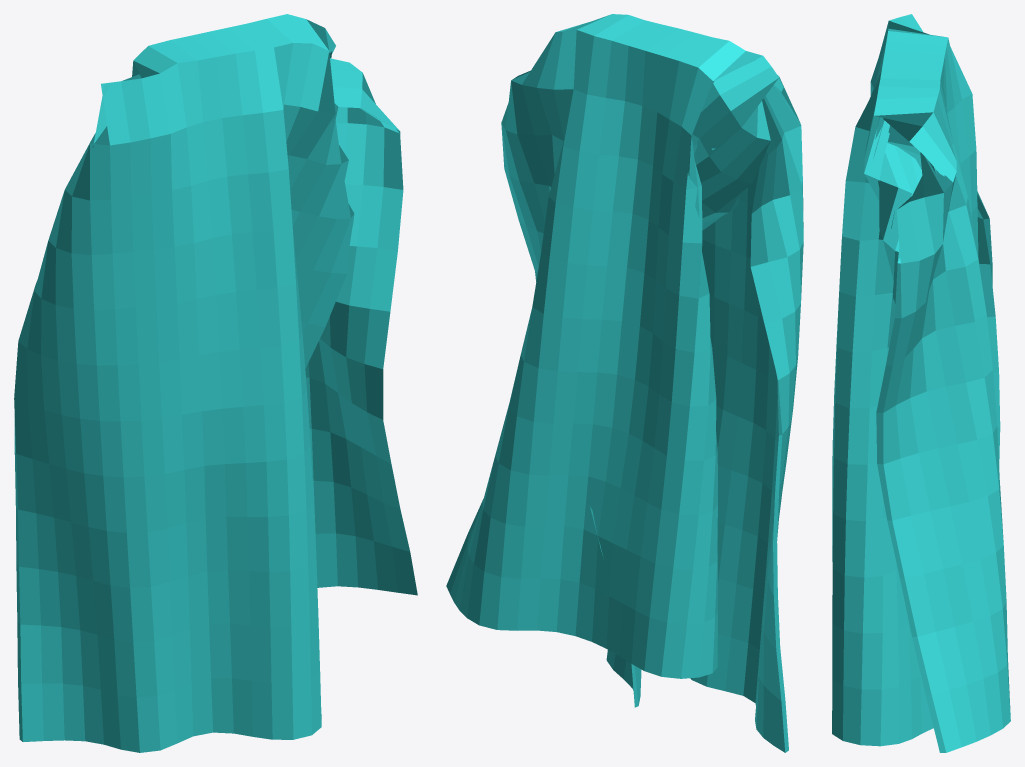
Rendered from towel_grab.fbx.
3 views of the same model, side by side, from view 1: azimuth 30°, elevation 25°; view 2: azimuth 150°, elevation 25°; view 3: azimuth 270°, elevation 25° (orthographic). The views are drawn at different scales.
Visible parts, largest first — view 1: Plane; view 2: Plane; view 3: Plane.
Boxes of the visible parts, bbox=[...] form: Plane: bbox=[14, 14, 417, 752]; Plane: bbox=[446, 14, 803, 752]; Plane: bbox=[832, 14, 1010, 752].
Size of the model in its own units: 212 by 368 by 89.84.
